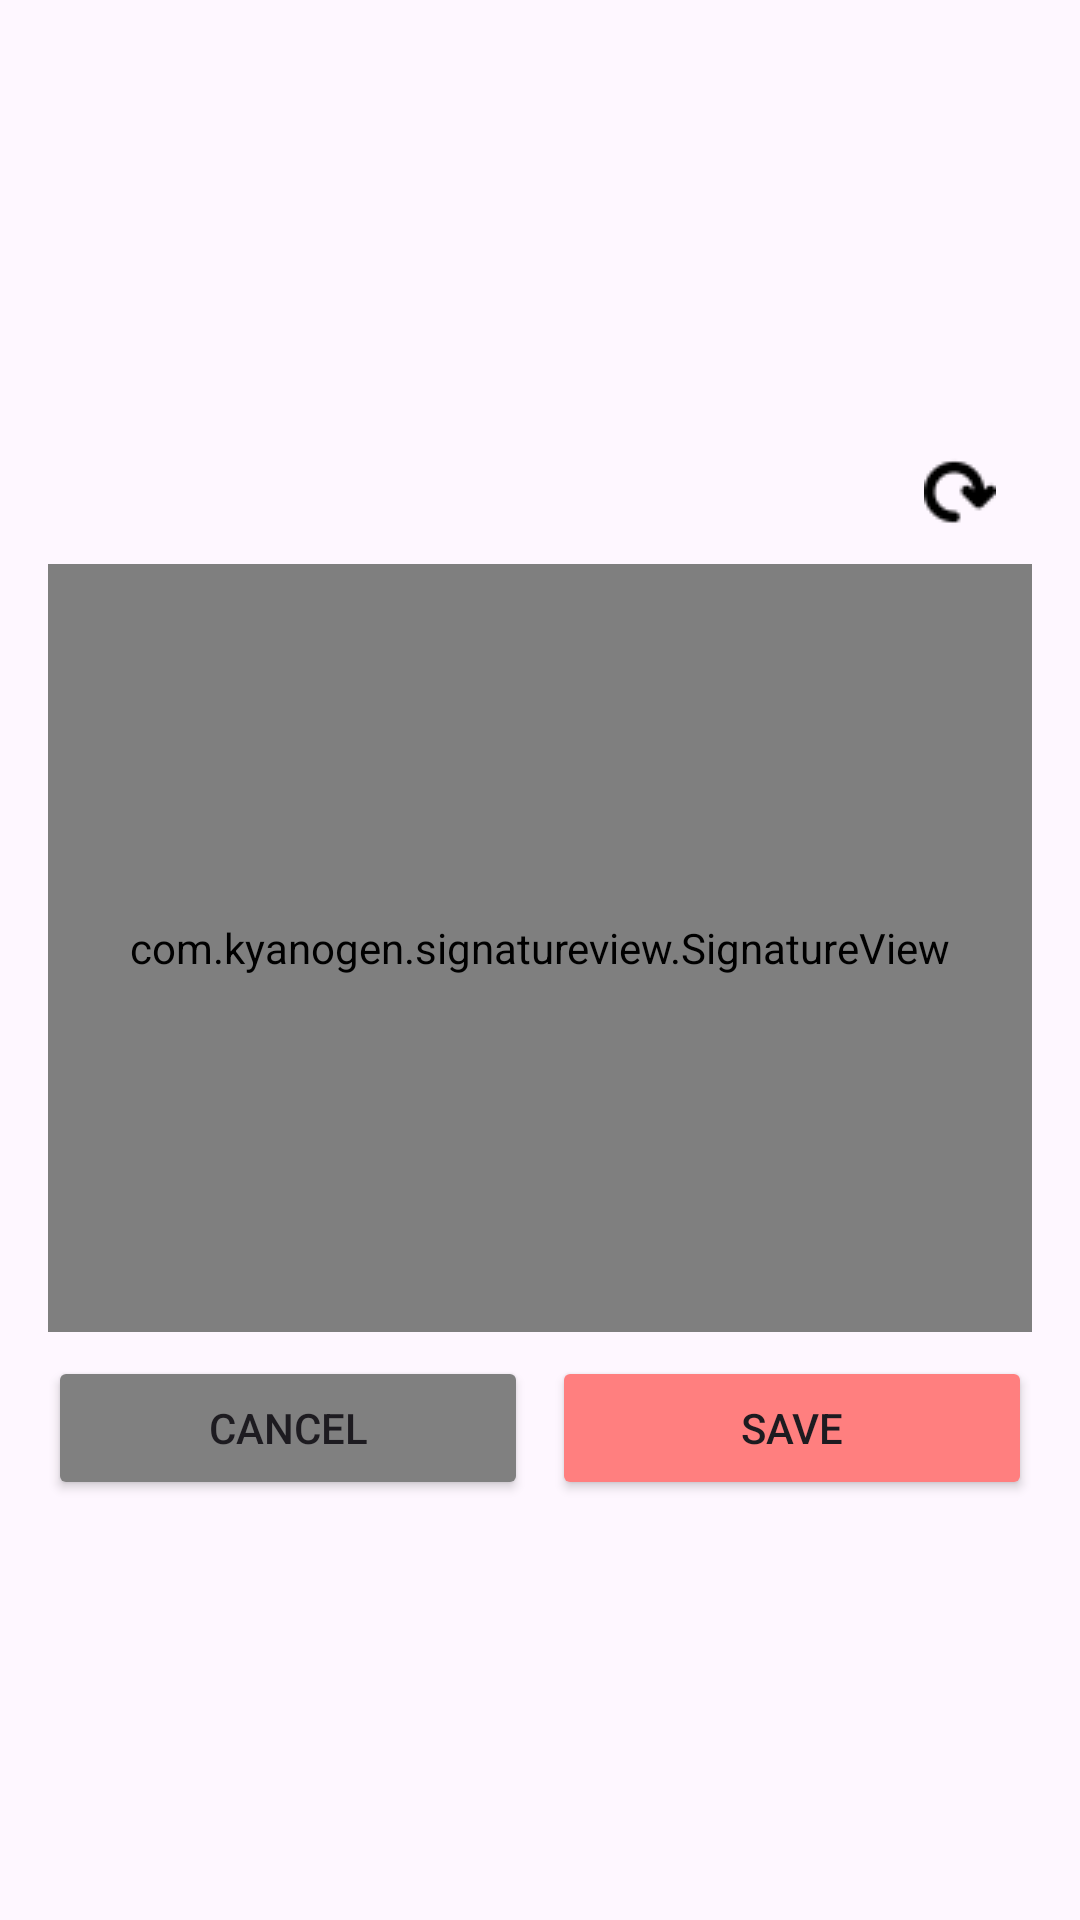

Point at icon controls on the screen. Image size 1080w x 1920h, points as point (x, y).
redo: point (960, 492)
